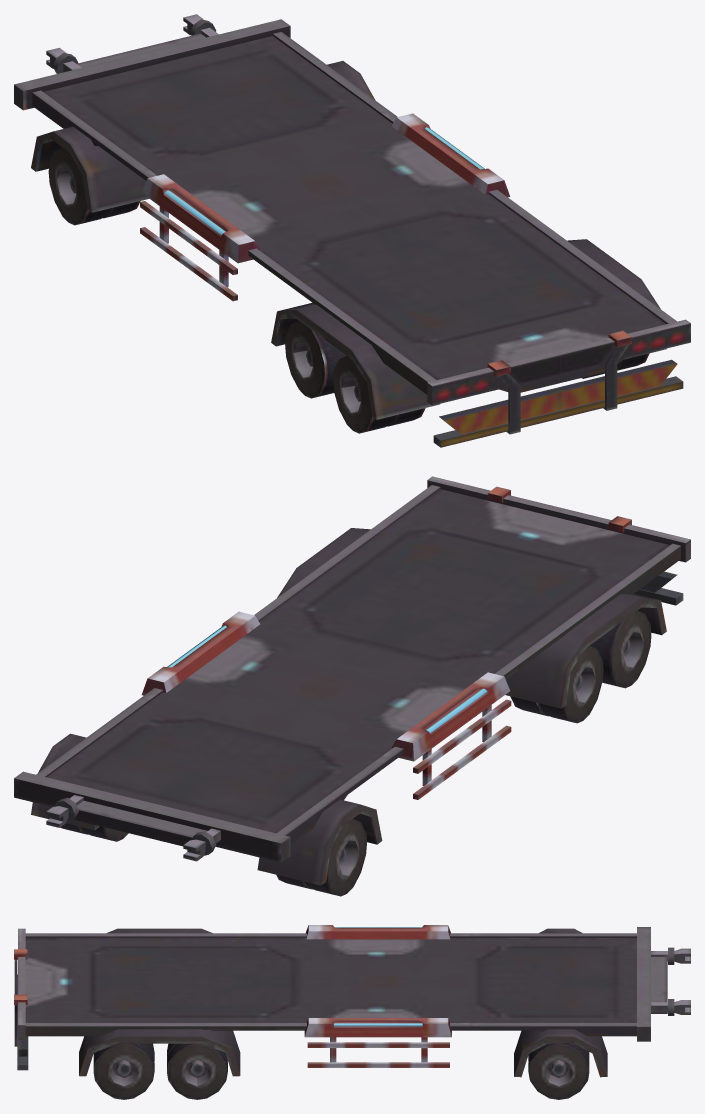
The model's file is Demo_huoche.FBX.
3 renders of one model, top to bottom at view 1: azimuth 30°, elevation 25°; view 2: azimuth 150°, elevation 25°; view 3: azimuth 270°, elevation 25°, orthographic. The views are drawn at different scales.
Visible parts, largest first — view 1: Demo_huoche; view 2: Demo_huoche; view 3: Demo_huoche.
Boxes of the visible parts, left/top/right/bottom form: Demo_huoche: left=14, top=14, right=690, bottom=447; Demo_huoche: left=14, top=476, right=690, bottom=896; Demo_huoche: left=14, top=925, right=690, bottom=1099.
Bounding box in the file's own units: 4.16 × 1.33 × 10.98.
